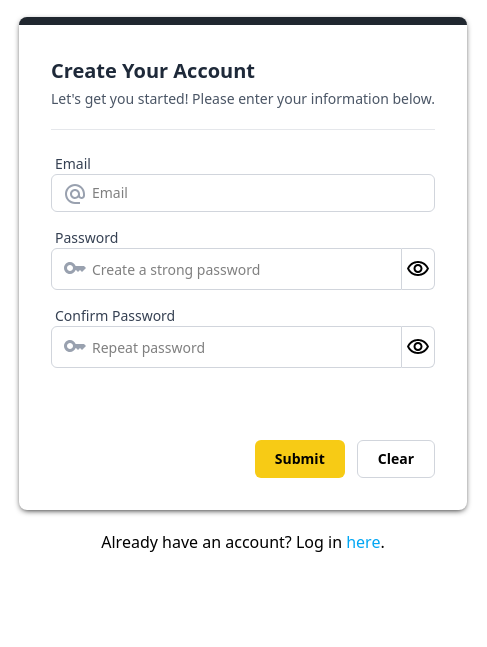
Test: APP - Auth - SignUp › should show real-time validation issues when typing invalid data (excluding "required" errors)
In the field with test id "email-field": (243, 193) [51, 174, 435, 212], type "not-an-email"
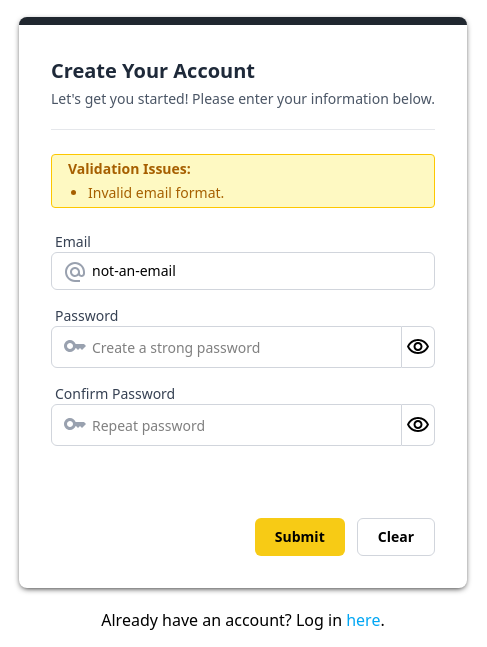
Result: the text "Validation Issues:" is shown at [68, 159, 191, 178]
